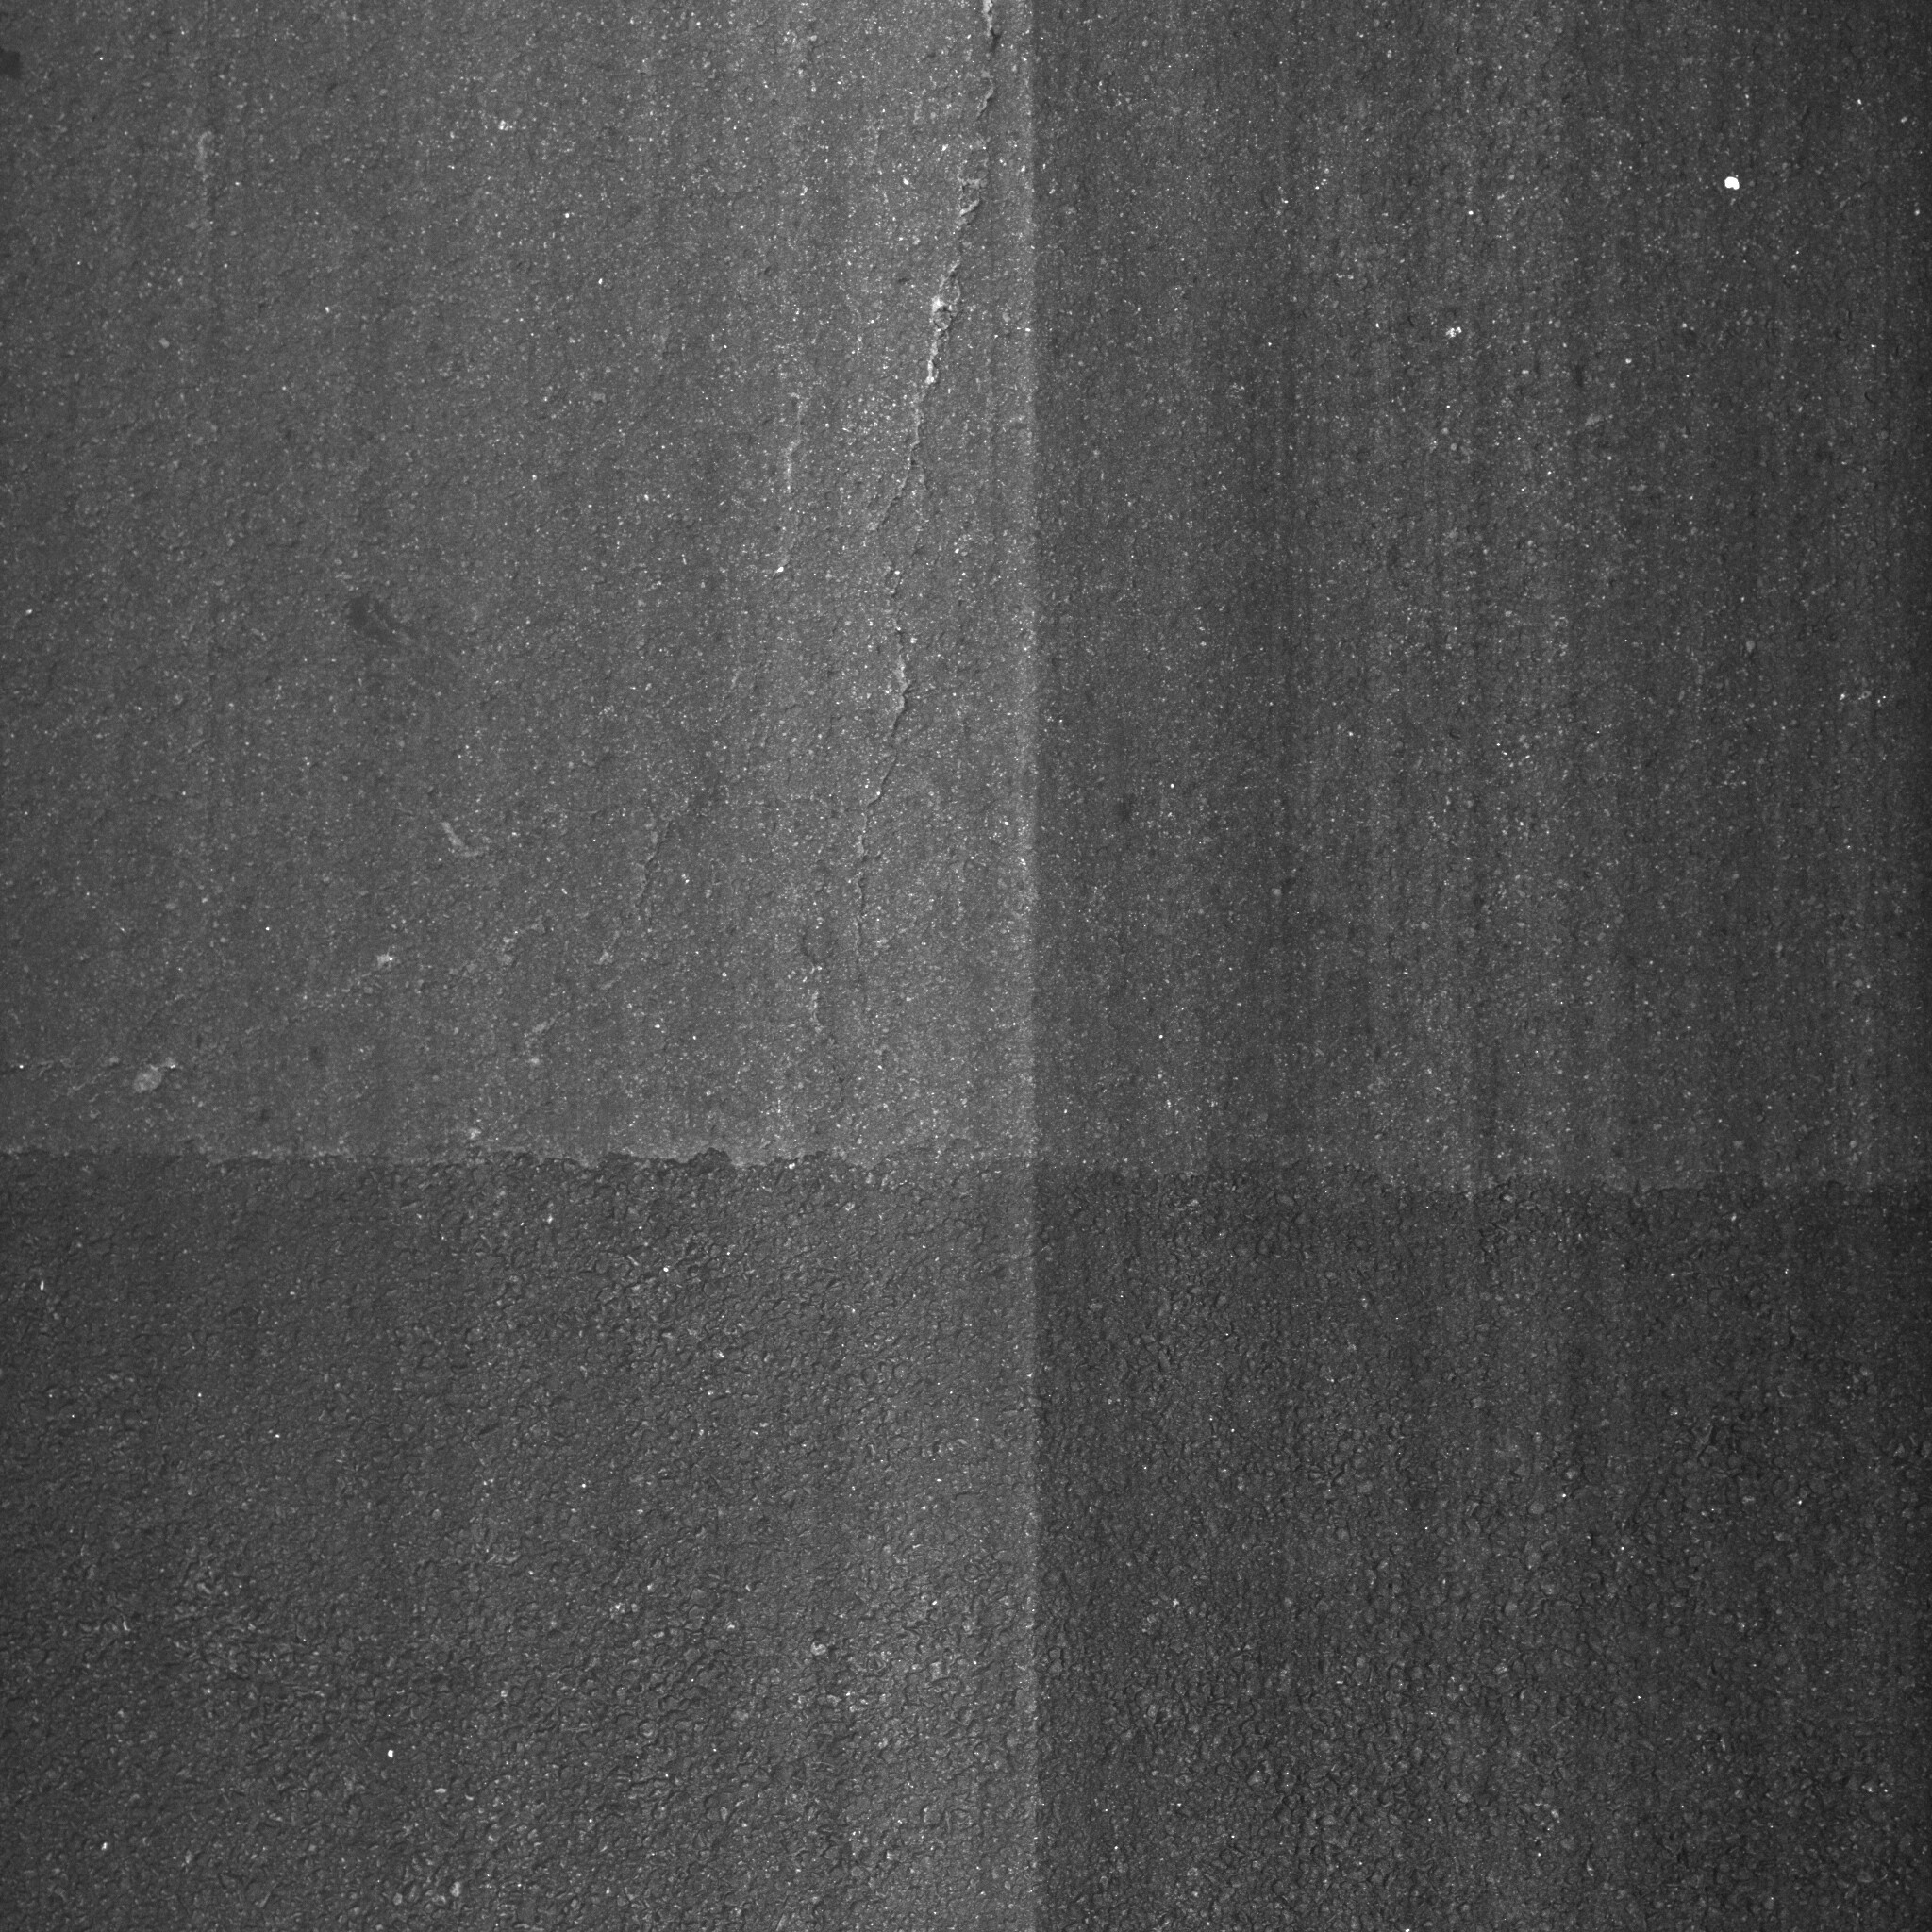longitudinal: (786, 9, 1000, 1125)
